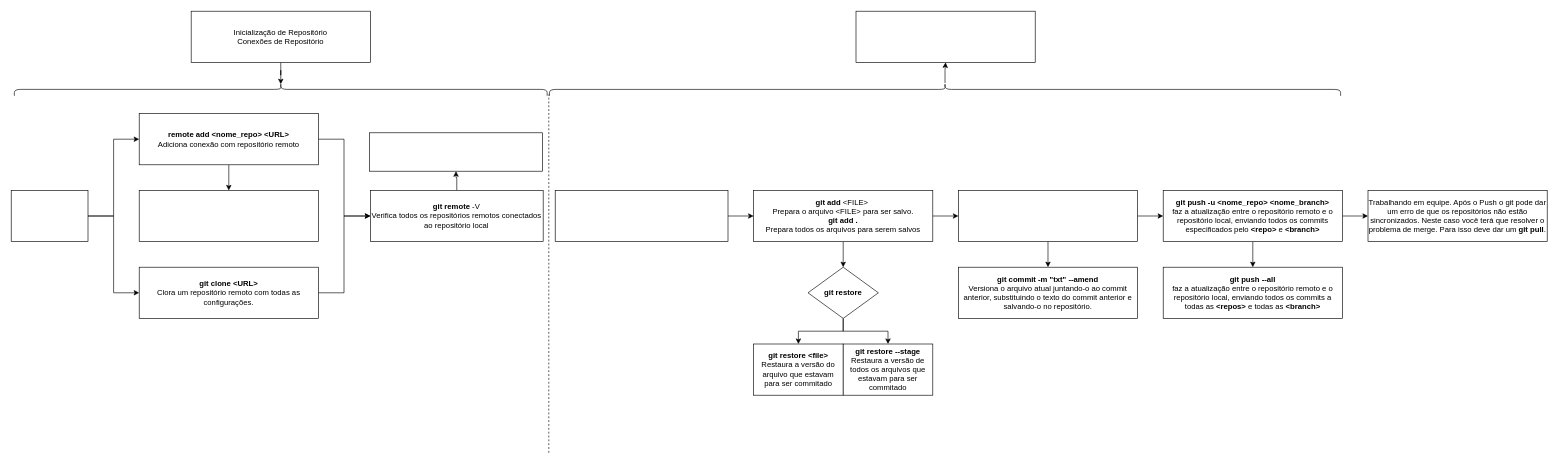
Some shapes in this 1558 by 465 pixel diagram are drawn without their labels. The centre of each missing label's shape, as x and y in pixels:
git commit -m "txt" Versiona o arquivo atual e salva-o no repositório.: [1048,216]
git init inicia repositório local: [49,216]
git status Verifica como o repositório local se encontra.: [641,216]
Mover para as verificações e escrever o git pull falar dos problemas de merge: [455,151]
remote delete <nome_repo> <URL> Deleta conexão com repositório remoto: [228,216]
Work flow simples: [945,36]
